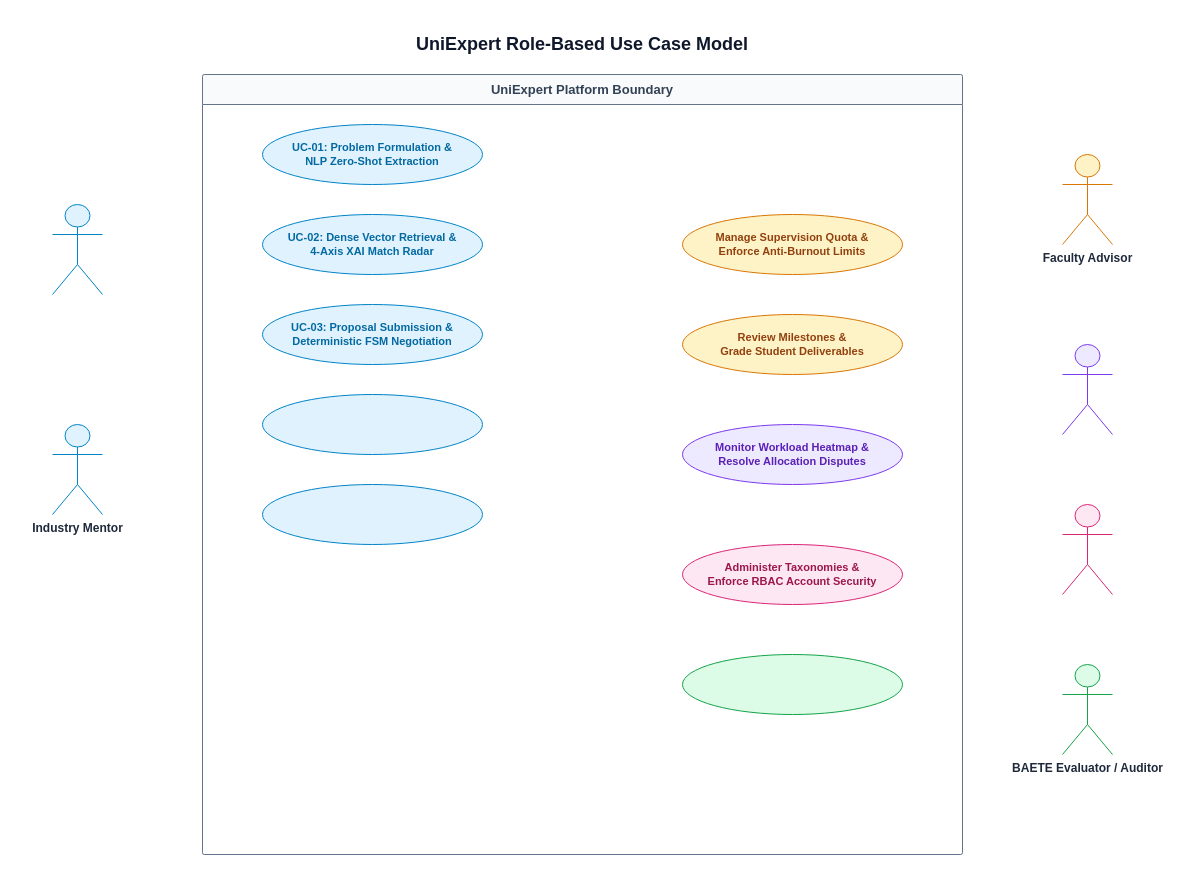
Some shapes in this 1180 by 873 pixel diagram are drawn without their labels. Each missing label, with the box of its shape:
Department Coordinator: (1062, 344, 1112, 434)
Student Project Lead: (52, 204, 102, 294)
System Administrator: (1062, 504, 1112, 594)
UC-04: Live WebRTC Consultation & Persistent WebSocket Chat: (262, 394, 482, 454)
UC-05: SHA-256 Merkle Audit & One-Click BAETE Dossier Export: (262, 484, 482, 544)
Verify Cryptographic Hash Chains & Evaluate BAETE Criteria: (682, 654, 902, 714)
